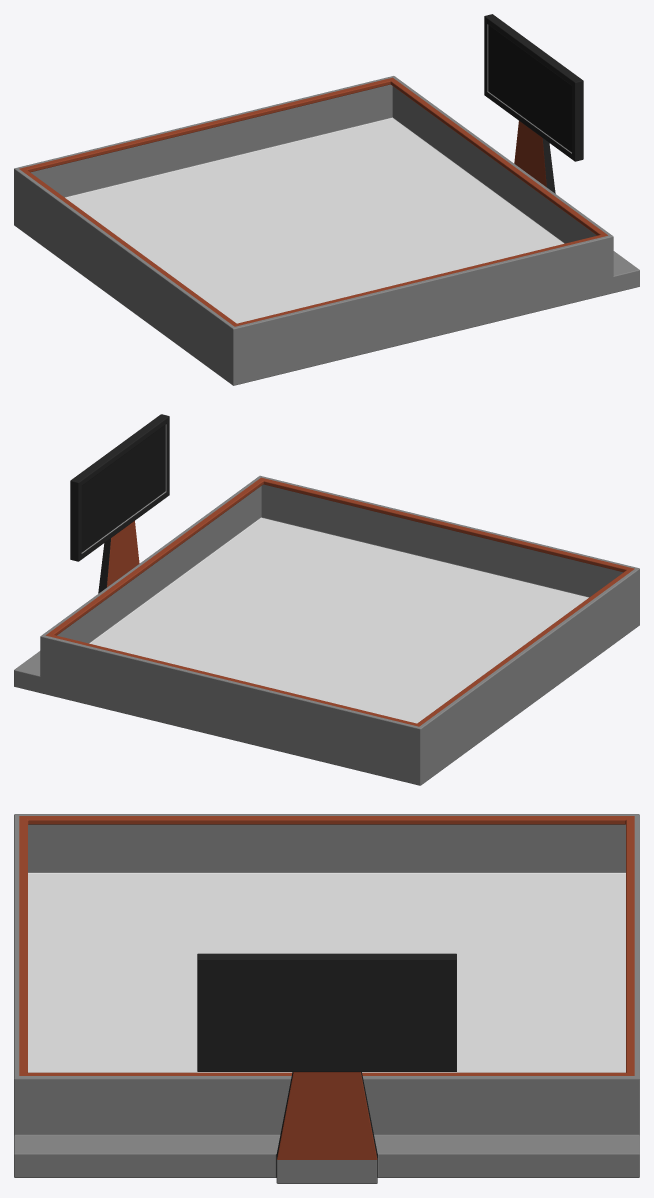
Rendered from bubble.fbx.
3 views of the same model, one above another, from view 1: azimuth 30°, elevation 25°; view 2: azimuth 150°, elevation 25°; view 3: azimuth 270°, elevation 25° (orthographic). The views are drawn at different scales.
Parts seen in each view (by area): view 1: bubble; view 2: bubble; view 3: bubble.
Boxes of the visible parts, bbox=[...] form: bubble: bbox=[14, 14, 639, 385]; bubble: bbox=[14, 414, 639, 785]; bubble: bbox=[14, 814, 639, 1183].
Size of the model in its own units: 1100 by 399 by 1008.
